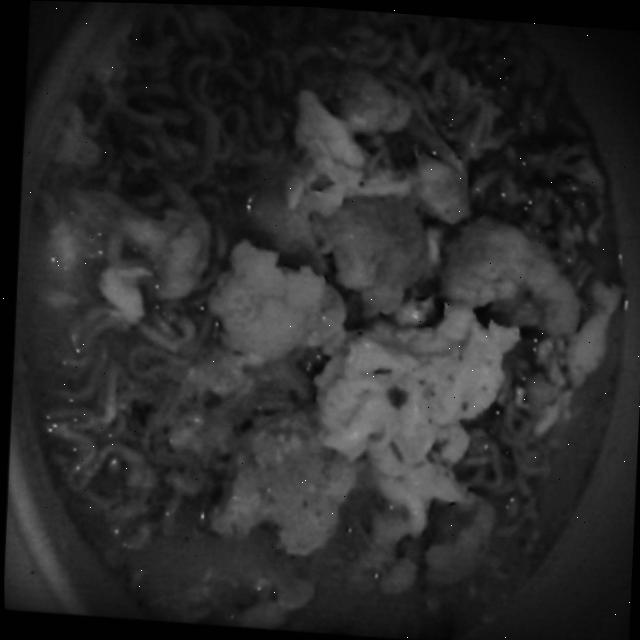汤锅炖物: (20, 0, 640, 633)
